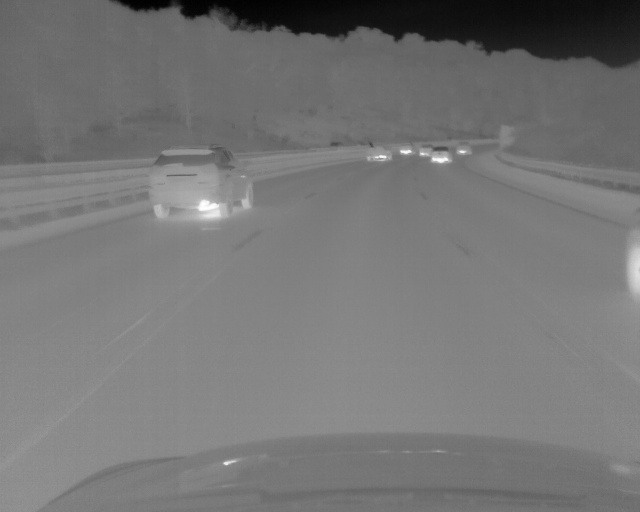car: (148, 145, 255, 219), (430, 146, 452, 163), (366, 147, 392, 161), (399, 142, 415, 155), (455, 145, 472, 156), (418, 145, 434, 156)
